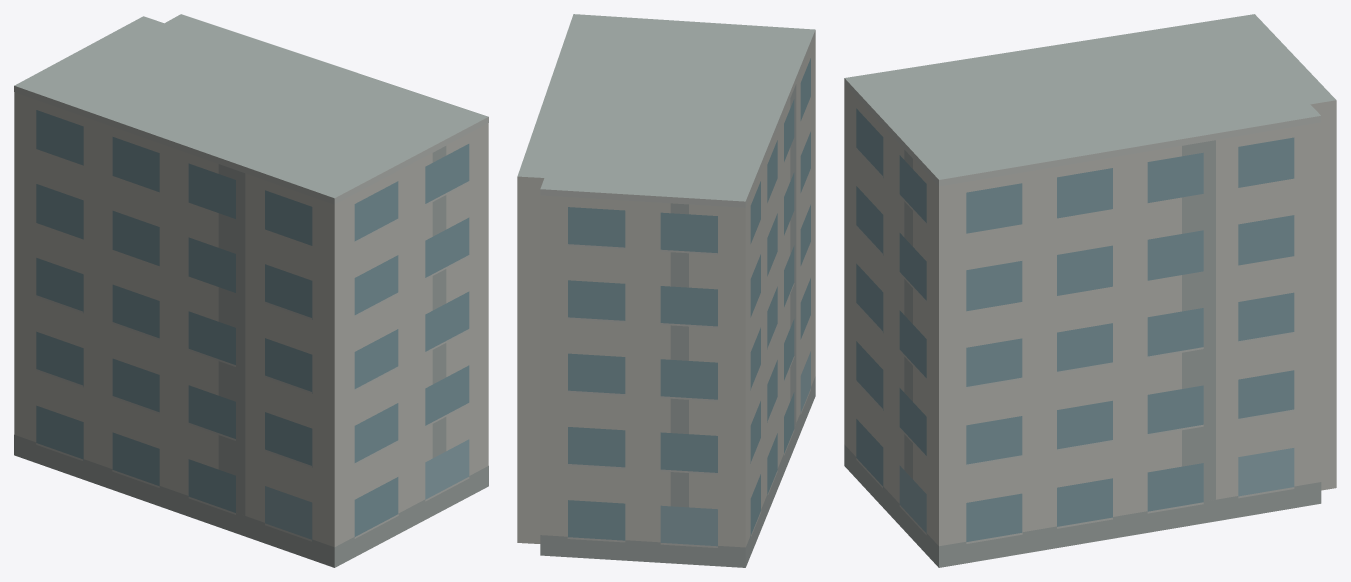
File: survey-upis-32881919.glb
The picture shows the model from 3 angles, left to right: view 1: azimuth 30°, elevation 25°; view 2: azimuth 150°, elevation 25°; view 3: azimuth 270°, elevation 25°; orthographic projection. The views are drawn at different scales.
Visible parts, largest first — view 1: survey-upis-32881919.tmp; view 2: survey-upis-32881919.tmp; view 3: survey-upis-32881919.tmp.
Part boxes in pixels (bbox=[...]): survey-upis-32881919.tmp: bbox=[14, 14, 488, 567]; survey-upis-32881919.tmp: bbox=[517, 14, 815, 567]; survey-upis-32881919.tmp: bbox=[844, 14, 1336, 567].
Bounding box in the file's own units: 12.95 × 14.1 × 16.22.
